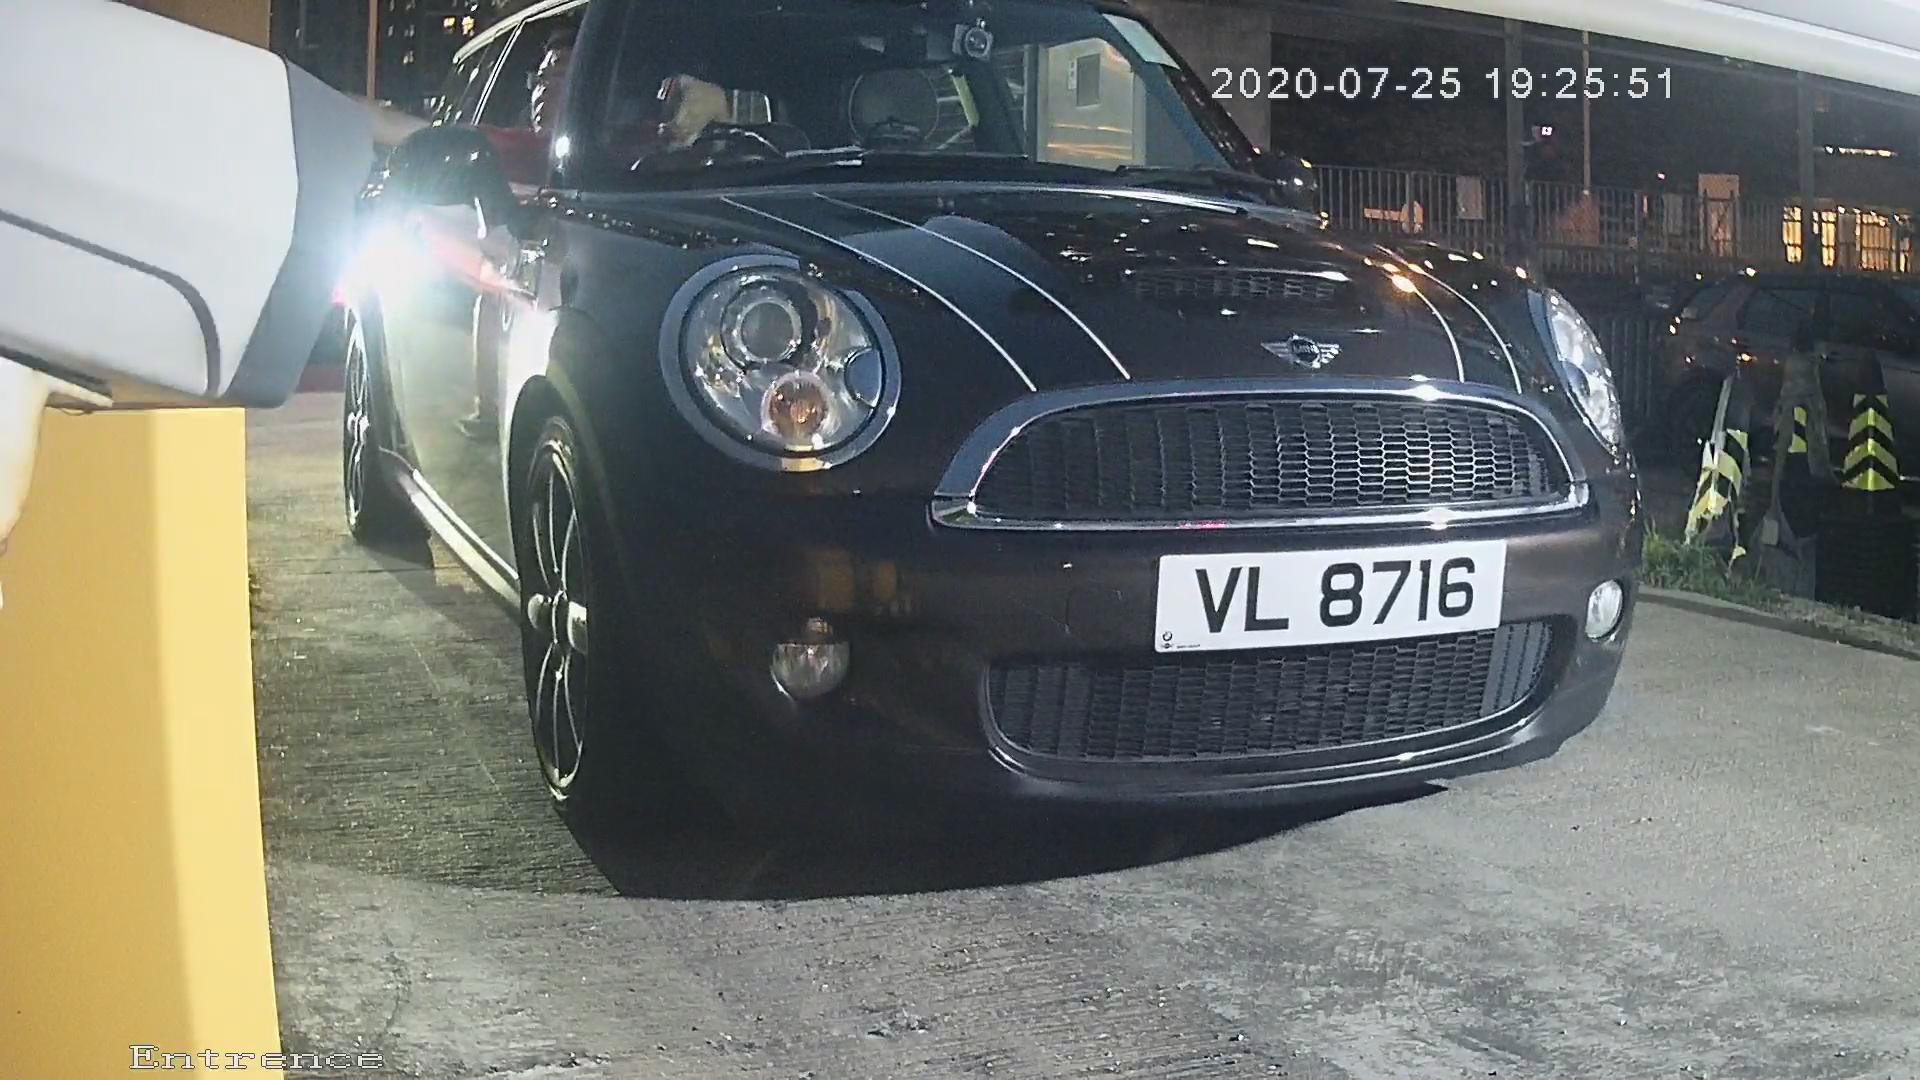Car: (189, 20, 1706, 917)
License Plate: (1123, 526, 1518, 666)
